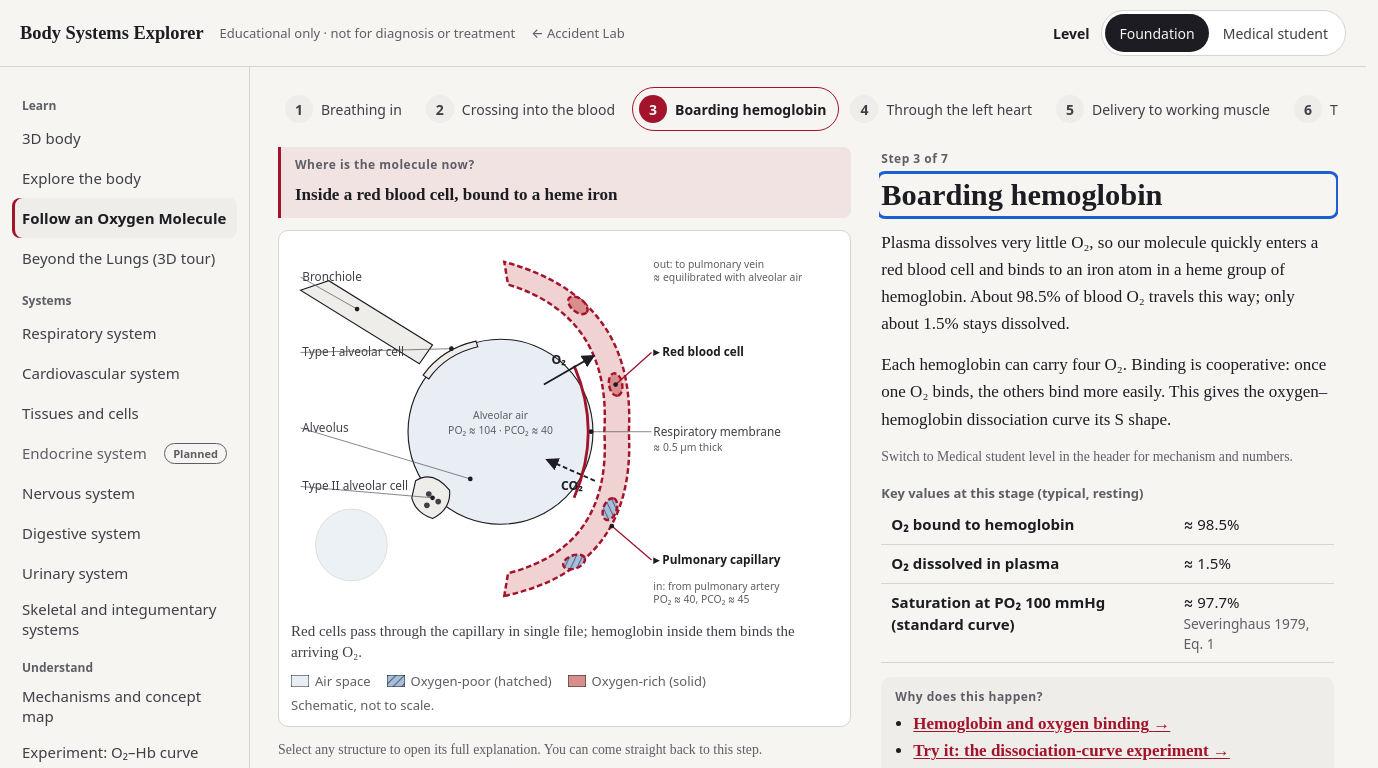
Test: acceptance: complete the oxygen journey › medical level adds marked paragraphs
The width and height of the screenshot is (1378, 768).
Check: the heading "Boarding hemoglobin" is shown, box x1=881 y1=178 x2=1162 y2=212
Check: the text "P50 is ~27 mmHg" is not shown
Click the button "Medical student". click: (1275,33)
box: x1=1209 y1=14 x2=1342 y2=52
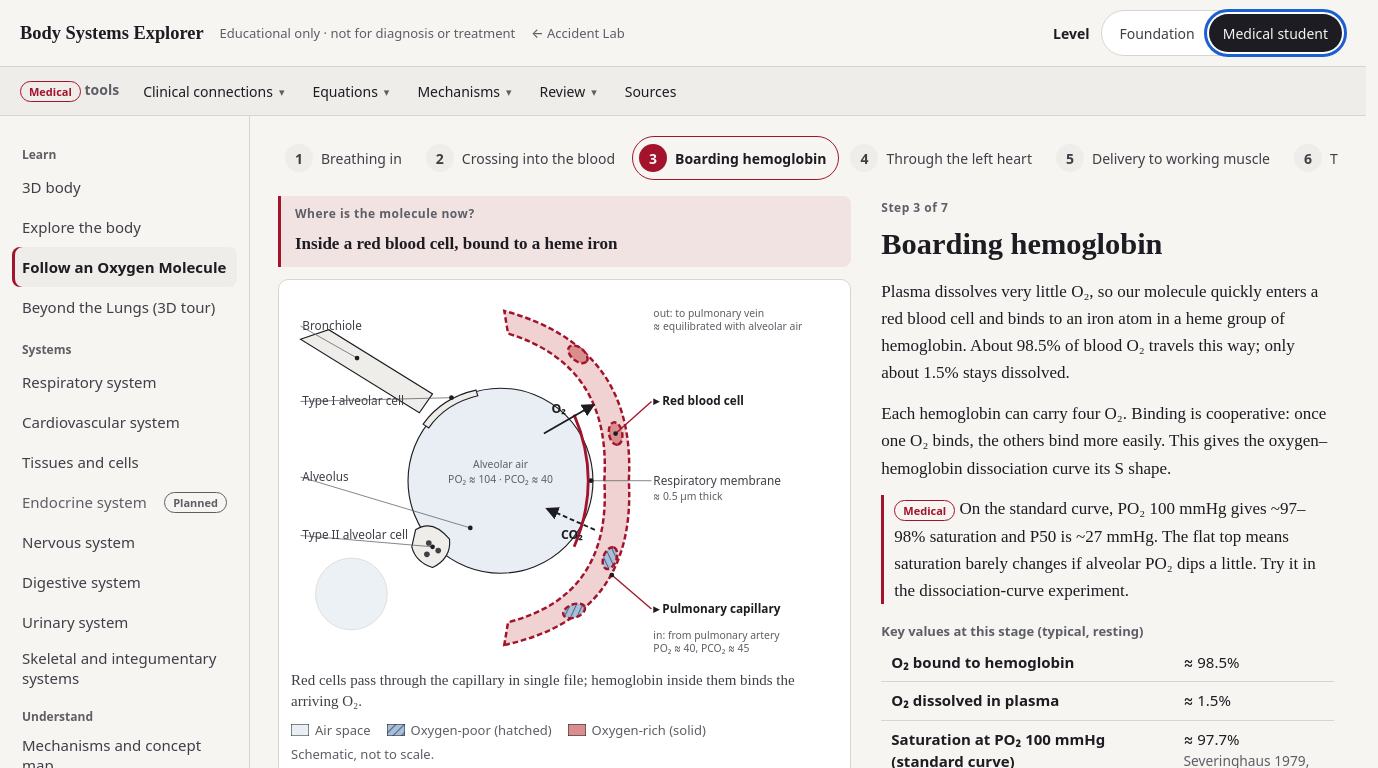
Check: the text "P50 is ~27 mmHg" is shown, box x1=894 y1=499 x2=1316 y2=600
